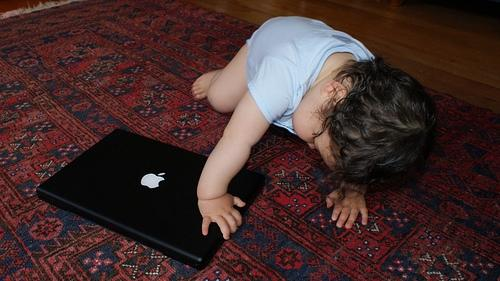apple: (141, 173, 166, 188)
